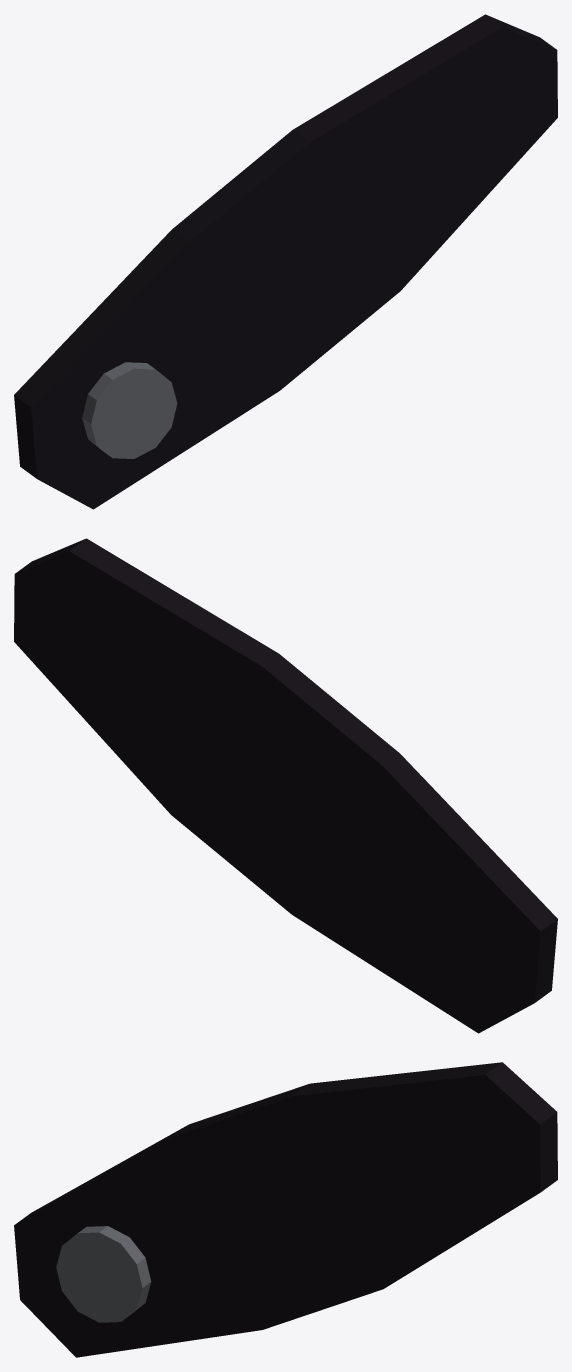
Rendered from Clock_hour.fbx.
3 renders of one model, top to bottom at view 1: azimuth 30°, elevation 25°; view 2: azimuth 150°, elevation 25°; view 3: azimuth 330°, elevation 25°, orthographic.
Visible parts, largest first — view 1: Clock_hour; view 2: Clock_hour; view 3: Clock_hour.
Part boxes in pixels (x1=…): Clock_hour: x1=14, y1=14, x2=557, y2=509; Clock_hour: x1=14, y1=538, x2=557, y2=1033; Clock_hour: x1=14, y1=1062, x2=557, y2=1357.
Size of the model in its own units: 0.1236 by 0.0858 by 0.0106.
